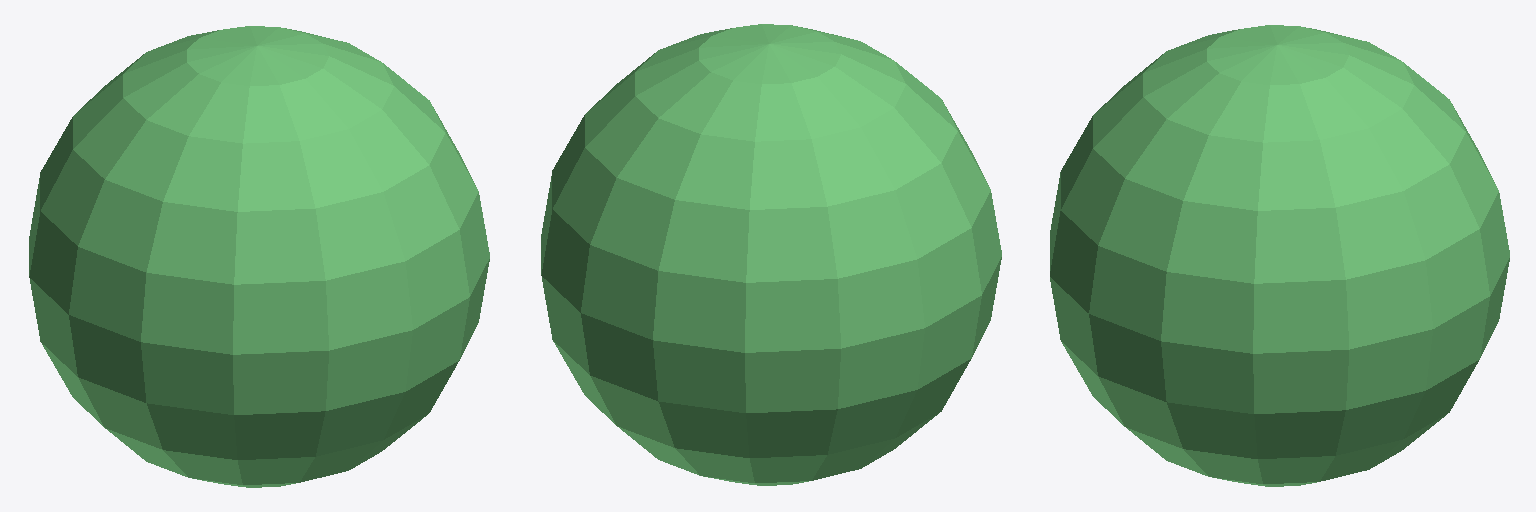
The model's file is projectile_martian.obj.
The picture shows the model from 3 angles: view 1: azimuth 30°, elevation 25°; view 2: azimuth 150°, elevation 25°; view 3: azimuth 270°, elevation 25°; orthographic projection.
Parts seen in each view (by area): view 1: Sphere; view 2: Sphere; view 3: Sphere.
Boxes of the visible parts, x1=… form: Sphere: x1=29, y1=26, x2=489, y2=487; Sphere: x1=541, y1=24, x2=1001, y2=485; Sphere: x1=1050, y1=25, x2=1509, y2=486.
Bounding box in the file's own units: 0.7459 × 0.75 × 0.7418.